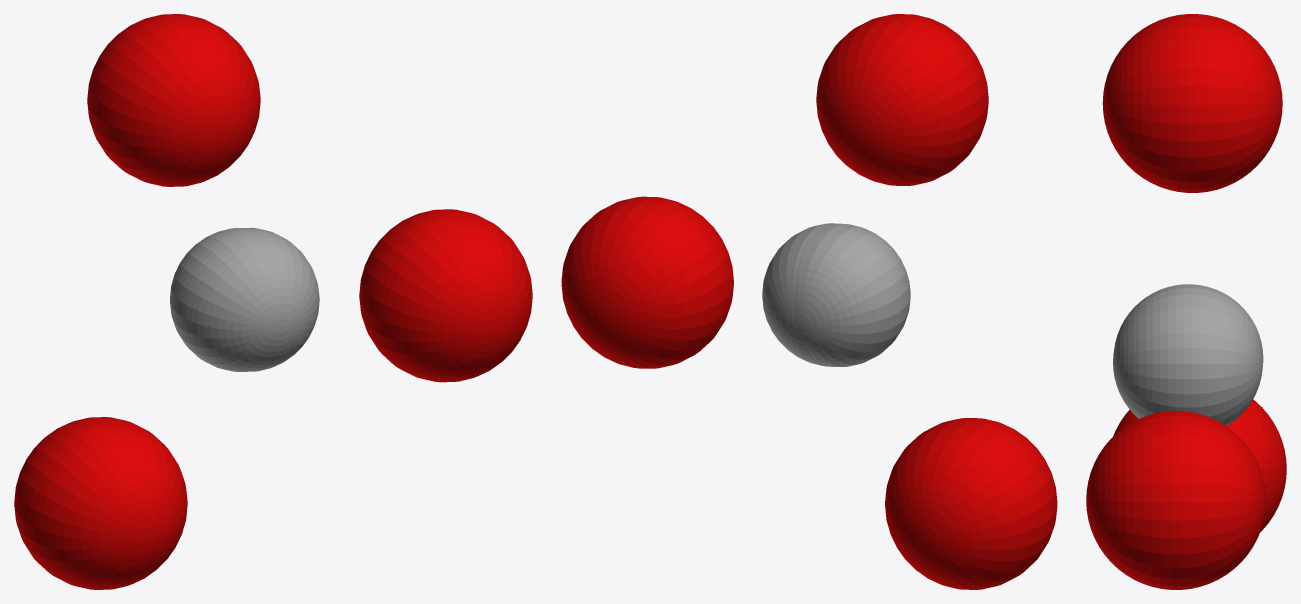
File: Sodium Silicate.glb
3 views of the same model, side by side, from view 1: azimuth 30°, elevation 25°; view 2: azimuth 150°, elevation 25°; view 3: azimuth 270°, elevation 25° (orthographic). The views are drawn at different scales.
Visible parts, largest first — view 1: world; view 2: world; view 3: world.
Part boxes in pixels (left/top/right/bottom): world: left=14, top=14, right=532, bottom=589; world: left=561, top=14, right=1057, bottom=589; world: left=1086, top=14, right=1286, bottom=589.
Size of the model in its own units: 3.87 by 4.15 by 1.34.
